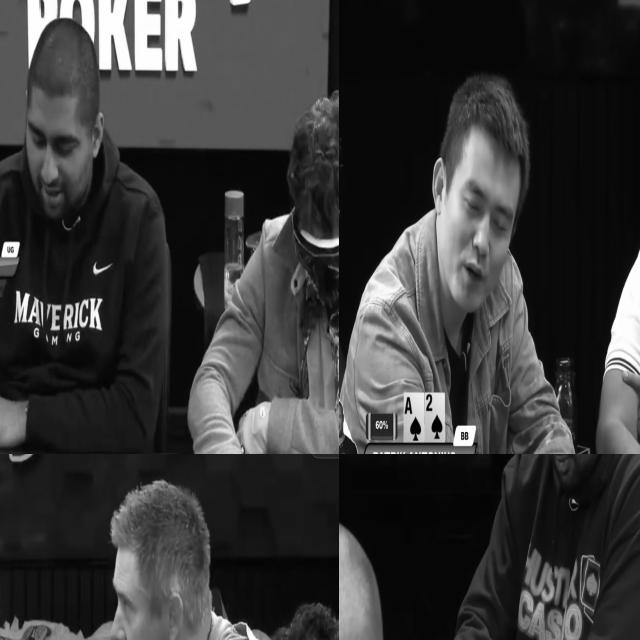2S: (425, 394, 444, 442)
AS: (404, 393, 424, 442)
